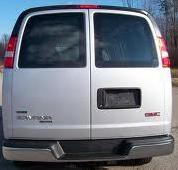backlight: (5, 56, 175, 157)
side_glass: (152, 30, 172, 67)
